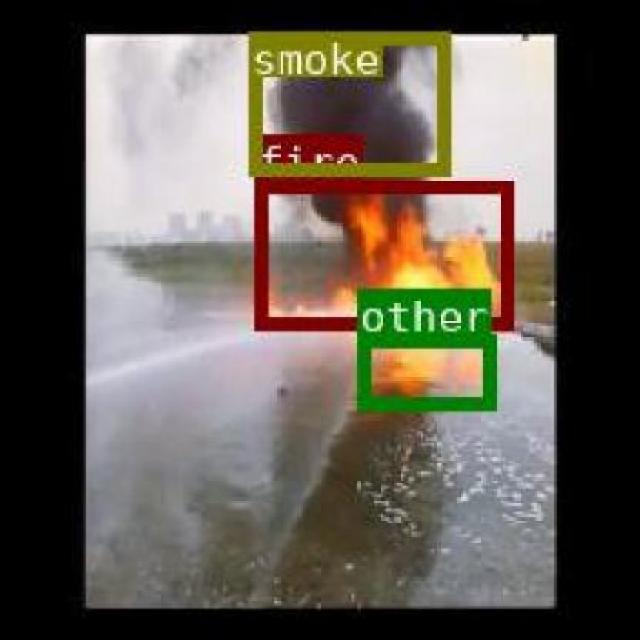Fire: (253, 178, 512, 328)
Smoke: (246, 29, 448, 174)
